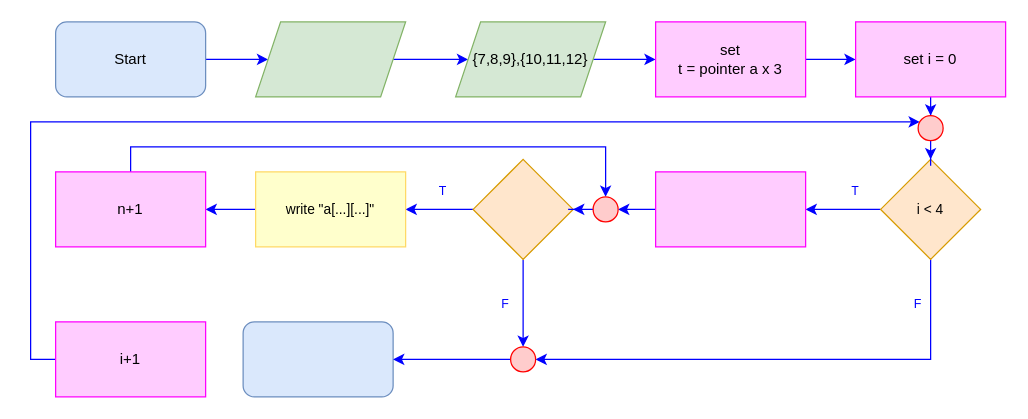
Some shapes in this 1028 by 419 pixel diagram are drawn without their labels. The box of each missing label's shape, as (x1, y1, x2, y2) in pixels:
End: (242, 321, 393, 397)
i, n array t(4x3)= {1,2,3},{4,5,6},: (254, 21, 406, 97)
n < 3: (472, 158, 573, 259)
set n = 0: (654, 171, 806, 247)
